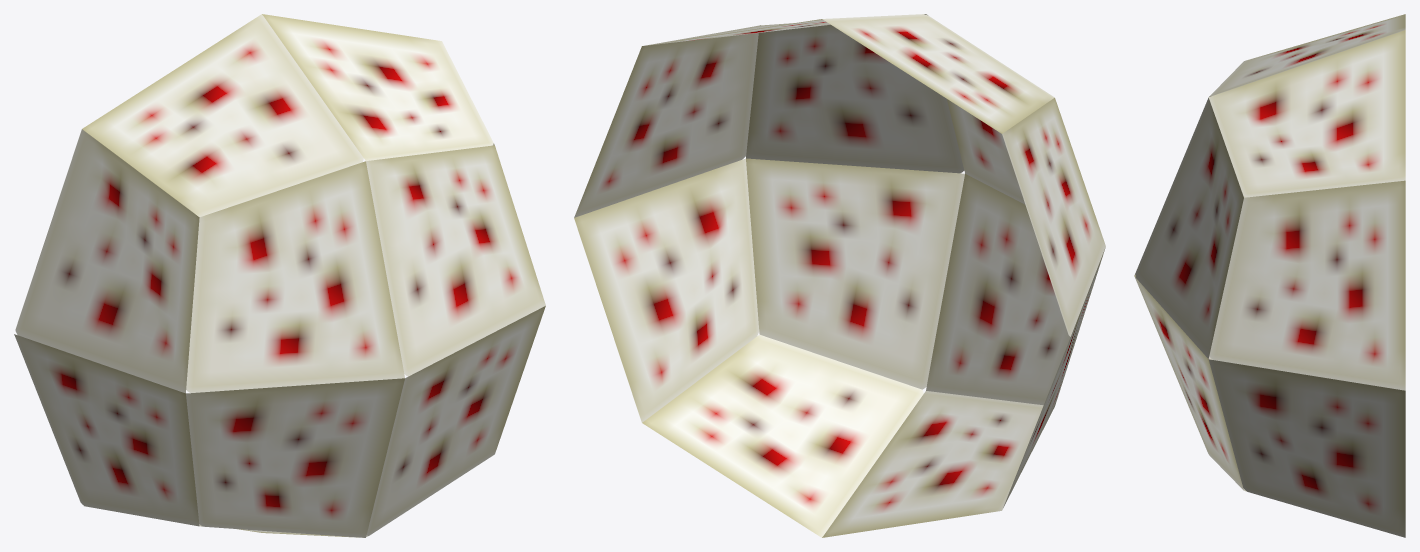
File: Ball 1.fbx
3 renders of one model, left to right at view 1: azimuth 30°, elevation 25°; view 2: azimuth 150°, elevation 25°; view 3: azimuth 270°, elevation 25°, orthographic. The views are drawn at different scales.
Parts seen in each view (by area): view 1: Cube; view 2: Cube; view 3: Cube.
Boxes of the visible parts, x1,y1,x2,y2 form: Cube: (14, 14, 545, 537); Cube: (574, 14, 1105, 537); Cube: (1134, 14, 1405, 537).
Bounding box in the file's own units: 168 × 168 × 83.95.
